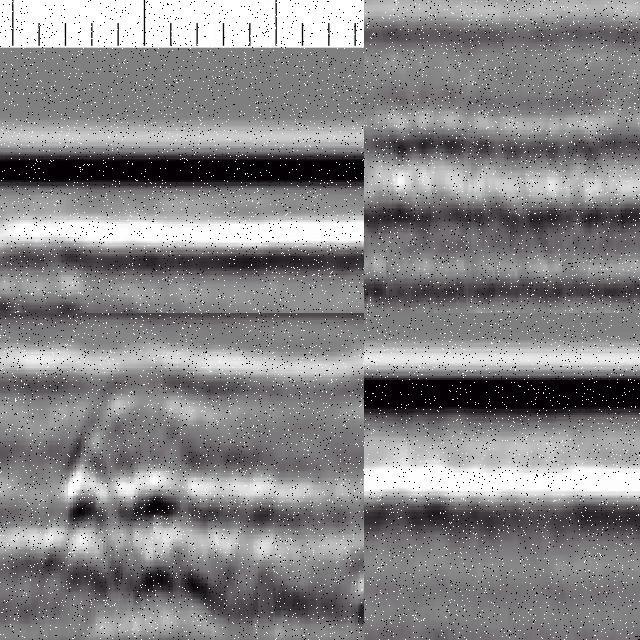crack: (365, 6, 380, 288)
loose: (49, 430, 264, 613), (365, 494, 421, 640)
